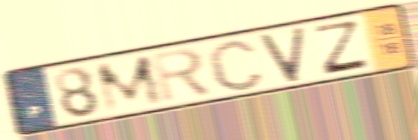8: (53, 65, 101, 120)
C: (205, 37, 267, 93)
M: (92, 52, 167, 115)
R: (150, 45, 216, 106)
V: (257, 24, 308, 85)
Z: (312, 19, 372, 77)
